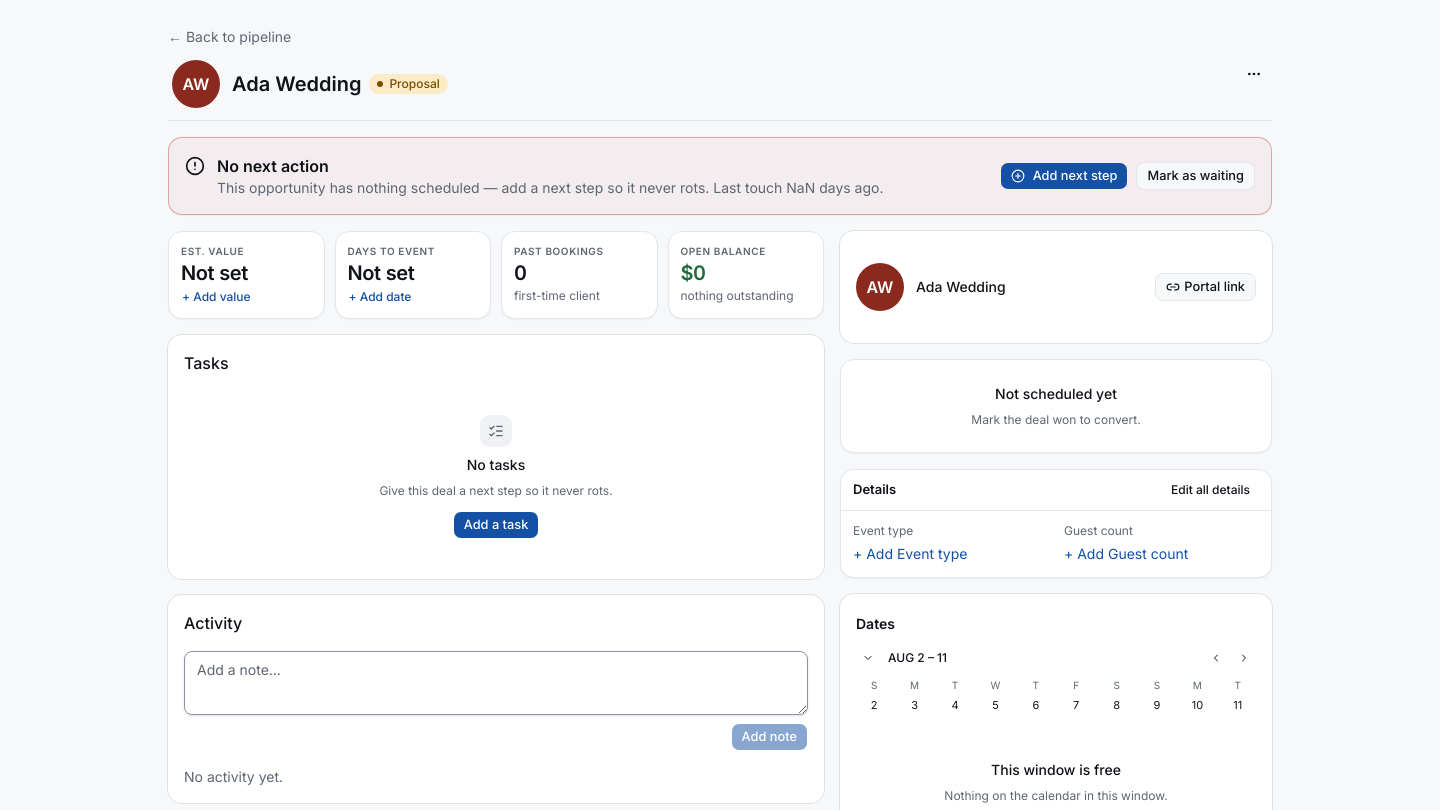
Test case: OpportunityDetailClient › puts stage moves and mark-lost behind the one actions menu
The image size is (1440, 810).
What coordinates should you click on to do the following:
click the button named "More actions"
I would click on:
 (1254, 74)
Its box is [1240,60,1268,88].
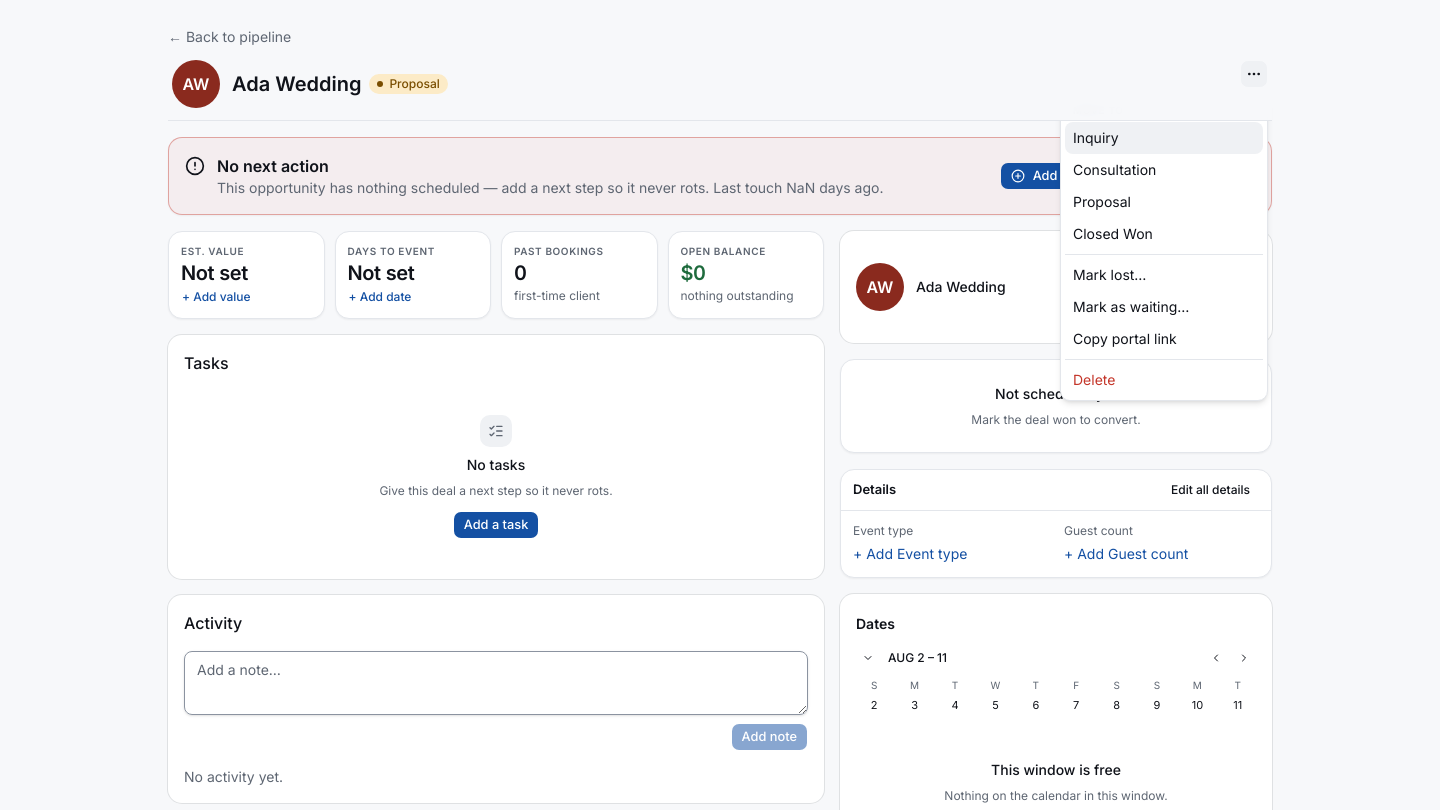
Expected: the menu item "Consultation" is shown, [1073,161,1156,178]
Expected: the menu item "Mark lost…" is shown, [1073,266,1146,283]
